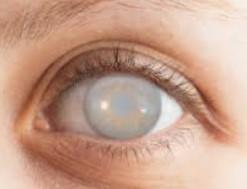eye: (82, 74, 162, 142)
